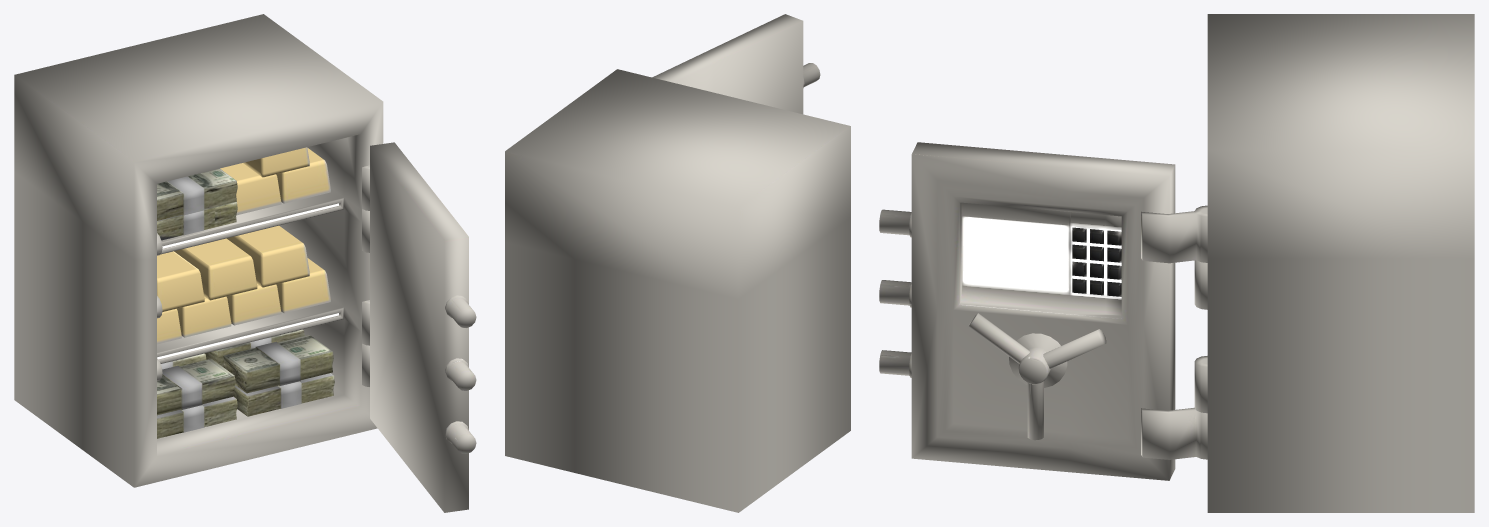
Rendered from goldbar.glb.
3 renders of one model, left to right at view 1: azimuth 30°, elevation 25°; view 2: azimuth 150°, elevation 25°; view 3: azimuth 270°, elevation 25°, orthographic. The views are drawn at different scales.
Visible parts, largest first — view 1: Vault; view 2: Vault; view 3: Vault.
Boxes of the visible parts, bbox=[...] form: Vault: bbox=[14, 14, 476, 512]; Vault: bbox=[505, 14, 850, 512]; Vault: bbox=[879, 14, 1474, 512].
Size of the model in its own units: 1.08 by 1.35 by 2.
Materials: 1 (1 with a texture image).
